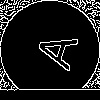A: (25, 25, 79, 71)
